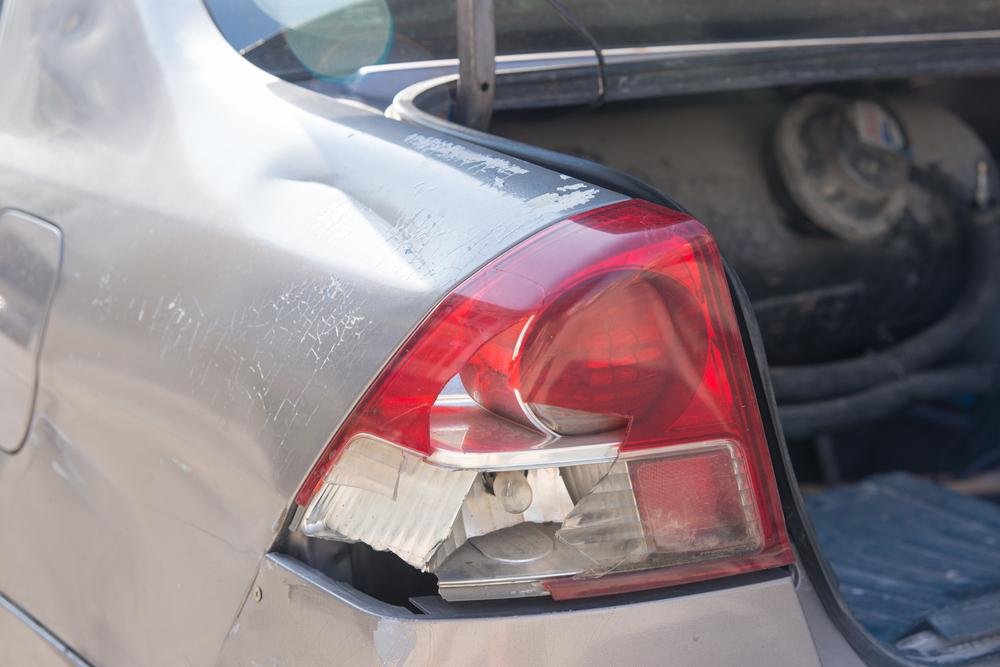dent: (29, 365, 275, 667), (242, 138, 464, 288)
lamp broken: (279, 196, 797, 610)
scratch: (105, 278, 360, 435)
